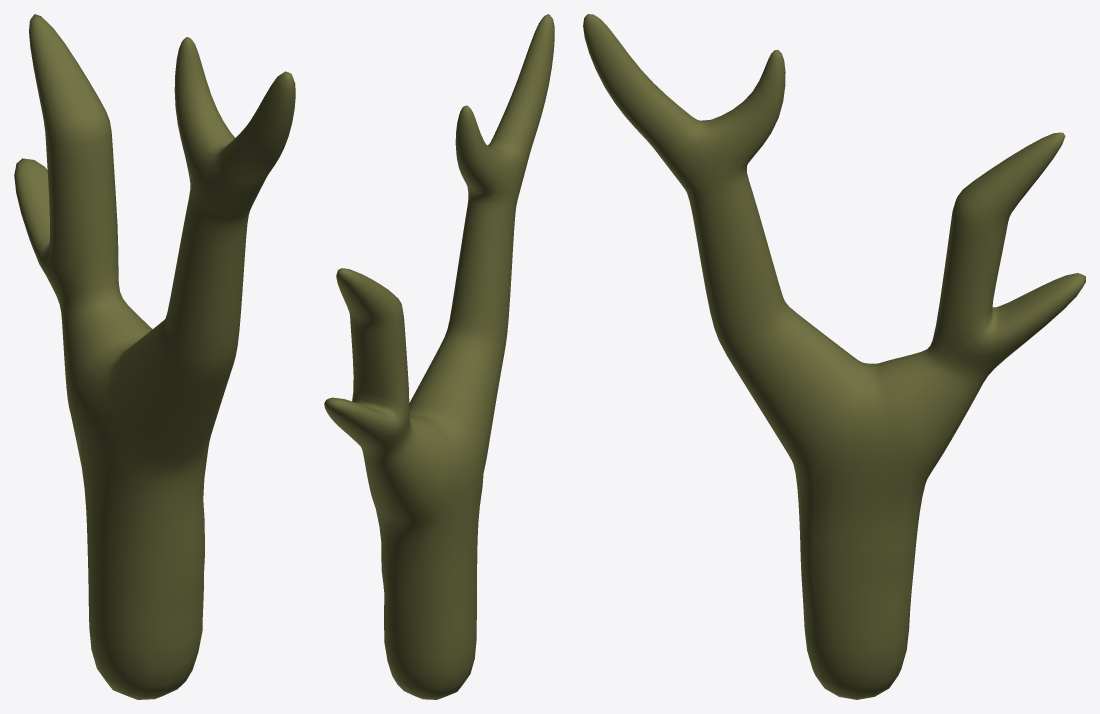
The model's file is coral15.fbx.
3 views of the same model, side by side, from view 1: azimuth 30°, elevation 25°; view 2: azimuth 150°, elevation 25°; view 3: azimuth 270°, elevation 25° (orthographic). The views are drawn at different scales.
Visible parts, largest first — view 1: hard coral 001; view 2: hard coral 001; view 3: hard coral 001.
Part boxes in pixels (x1=…): hard coral 001: x1=14, y1=14, x2=295, y2=699; hard coral 001: x1=324, y1=14, x2=554, y2=699; hard coral 001: x1=583, y1=14, x2=1085, y2=699.
Size of the model in its own units: 193 by 1328 by 889.
